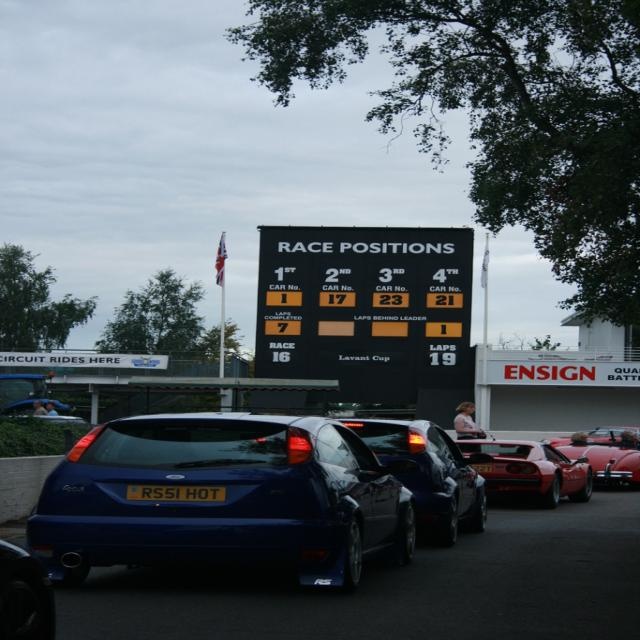car: (30, 408, 443, 597)
